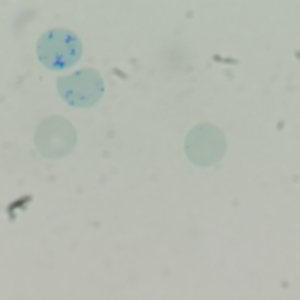aggregate reticulocyte: (35, 27, 85, 73), (54, 67, 107, 109)
erythrocyte: (31, 113, 78, 160)
punctate reticulocyte: (183, 122, 227, 168)
